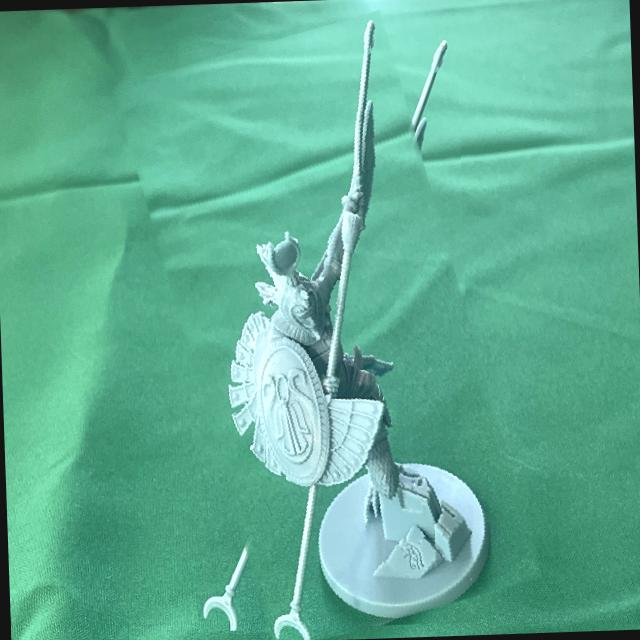isis: (144, 18, 510, 640)
